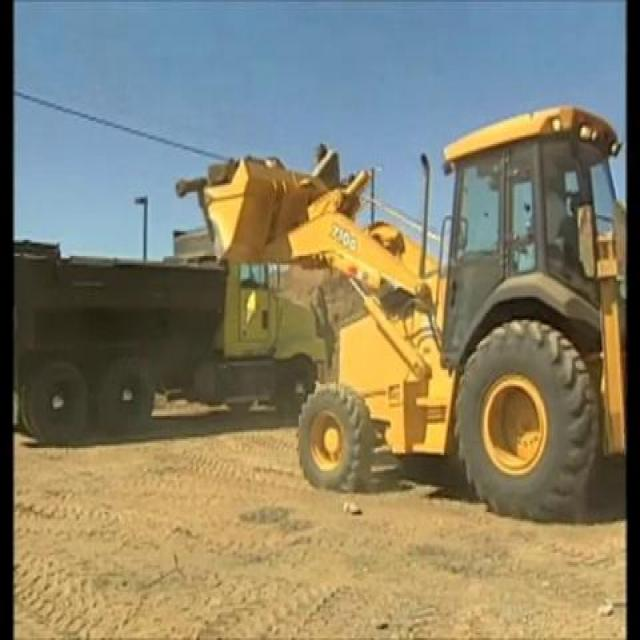Dump Truck: (12, 222, 328, 441)
Loader: (196, 101, 624, 523)
